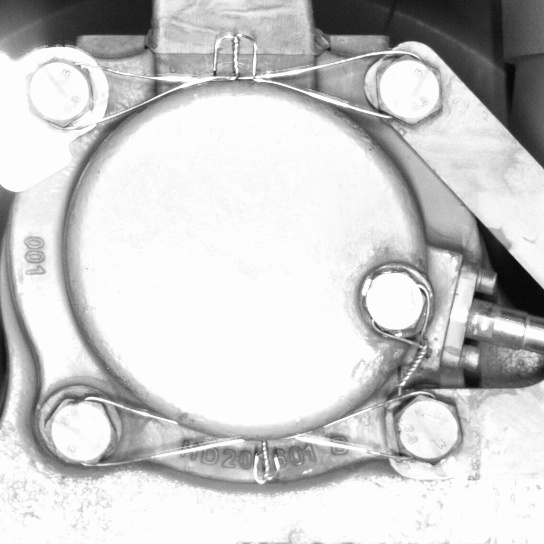IronWire: (21, 48, 454, 132), (39, 385, 466, 469)
Screw: (362, 47, 453, 131), (38, 385, 121, 477), (21, 48, 102, 133), (386, 387, 467, 470), (354, 260, 434, 344)
